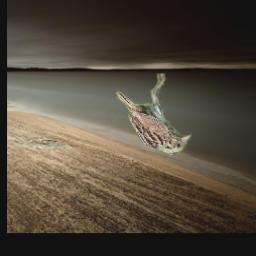Sparrow: (115, 73, 190, 155)
